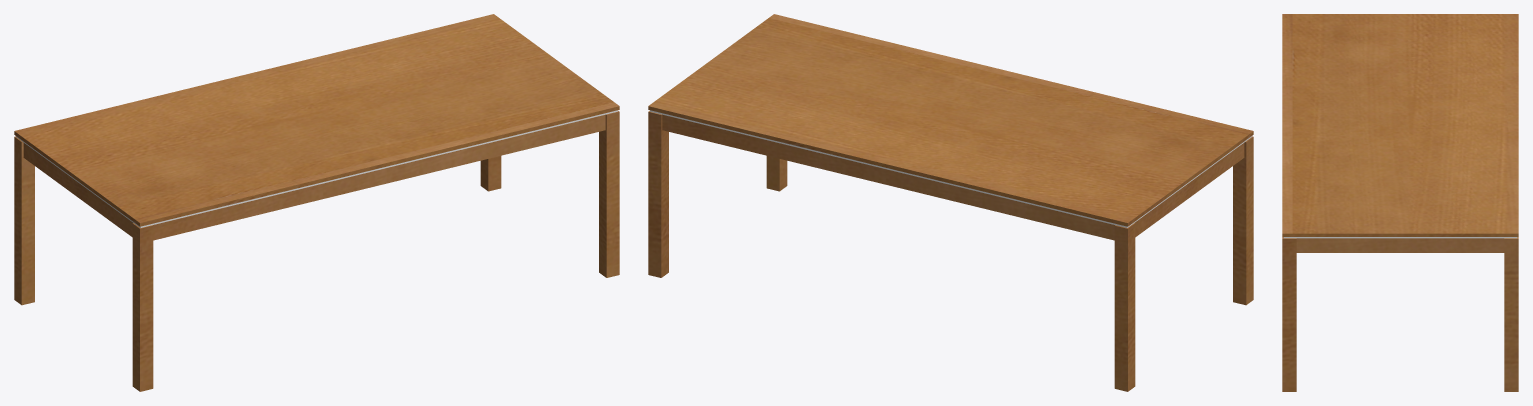
The model's file is coffee_table.dae.
3 renders of one model, left to right at view 1: azimuth 30°, elevation 25°; view 2: azimuth 150°, elevation 25°; view 3: azimuth 270°, elevation 25°, orthographic. The views are drawn at different scales.
Visible parts, largest first — view 1: Grupo_1, Grupo_3 (×3), Grupo_8, Grupo_9, Grupo_6, Grupo_4; view 2: Grupo_1, Grupo_3 (×3), Grupo_7, Grupo_4, Grupo_9, Grupo_6; view 3: Grupo_1, Grupo_10, Grupo_3, Grupo_4, Grupo_6.
Boxes of the visible parts, <box> form: Grupo_1: <box>14,14,619,226</box>; Grupo_3 (×3): <box>14,111,619,391</box>; Grupo_8: <box>153,114,605,240</box>; Grupo_9: <box>23,143,132,237</box>; Grupo_6: <box>16,110,617,227</box>; Grupo_4: <box>480,156,501,191</box>; Grupo_1: <box>648,14,1253,226</box>; Grupo_3 (×3): <box>766,136,1253,391</box>; Grupo_7: <box>662,114,1114,240</box>; Grupo_4: <box>648,111,668,277</box>; Grupo_9: <box>1135,143,1244,237</box>; Grupo_6: <box>650,110,1251,227</box>; Grupo_1: <box>1282,14,1518,236</box>; Grupo_10: <box>1296,238,1504,252</box>; Grupo_3: <box>1282,237,1296,391</box>; Grupo_4: <box>1504,237,1518,391</box>; Grupo_6: <box>1283,237,1517,238</box>.
Size of the model in its own units: 50.24 by 22.83 by 16.9.
2 materials, 1 textured.
